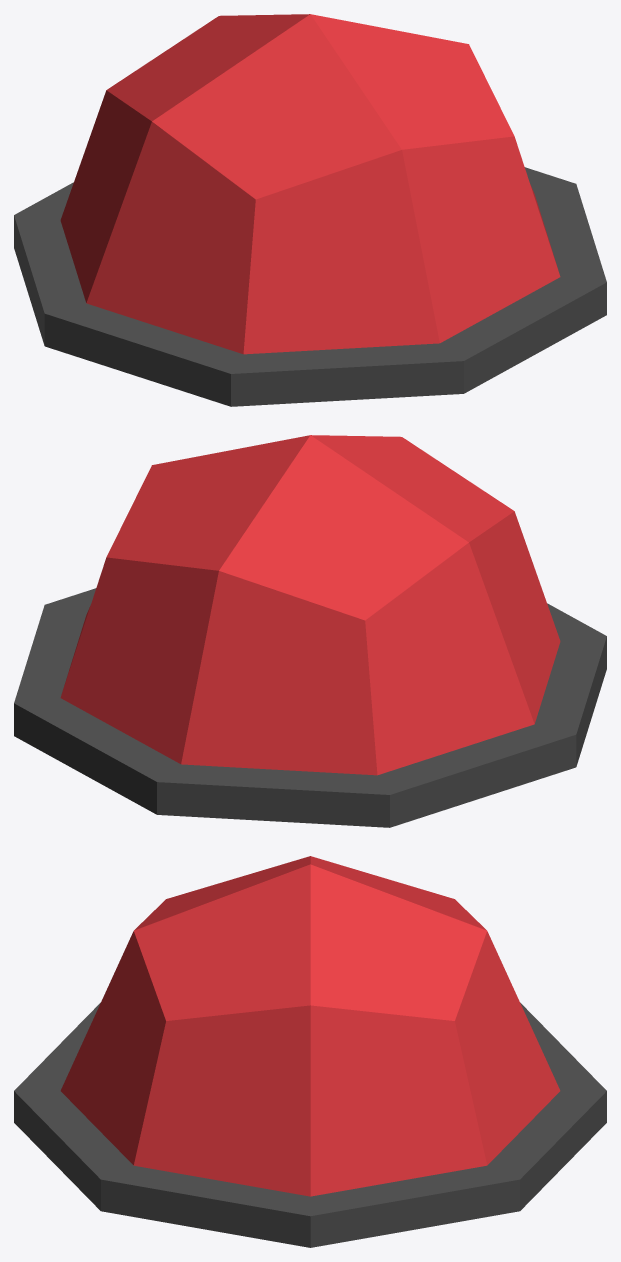
The model's file is button.glb.
The picture shows the model from 3 angles, top to bottom: view 1: azimuth 30°, elevation 25°; view 2: azimuth 150°, elevation 25°; view 3: azimuth 270°, elevation 25°; orthographic projection. The views are drawn at different scales.
Parts seen in each view (by area): view 1: Cube; view 2: Cube; view 3: Cube.
Part boxes in pixels (x1,y1,x2,y2): Cube: (14,14,606,406); Cube: (14,435,606,827); Cube: (14,856,606,1247).
Bounding box in the file's own units: 1.32 × 0.6368 × 1.32.
